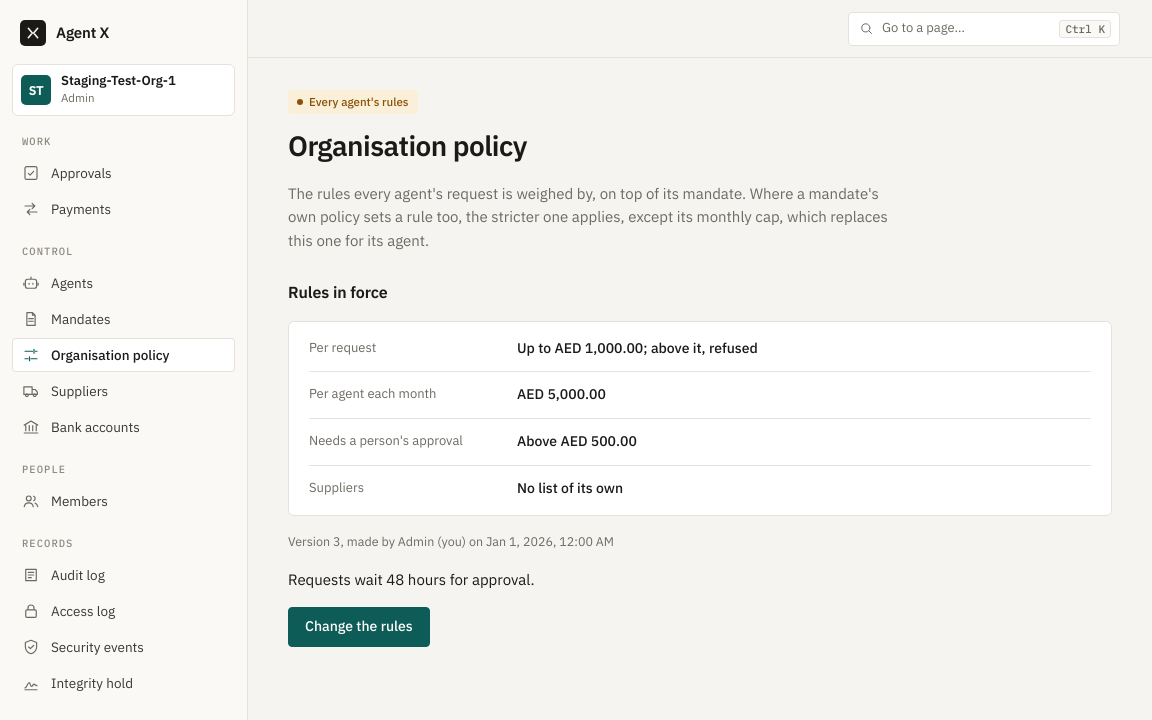
Test: the organisation’s policy (6D3b) › shows more suppliers to tick on asking
Step 1. Click the button "Change the rules" → click(359, 627), box [288,607,430,647]
(page scrolled)
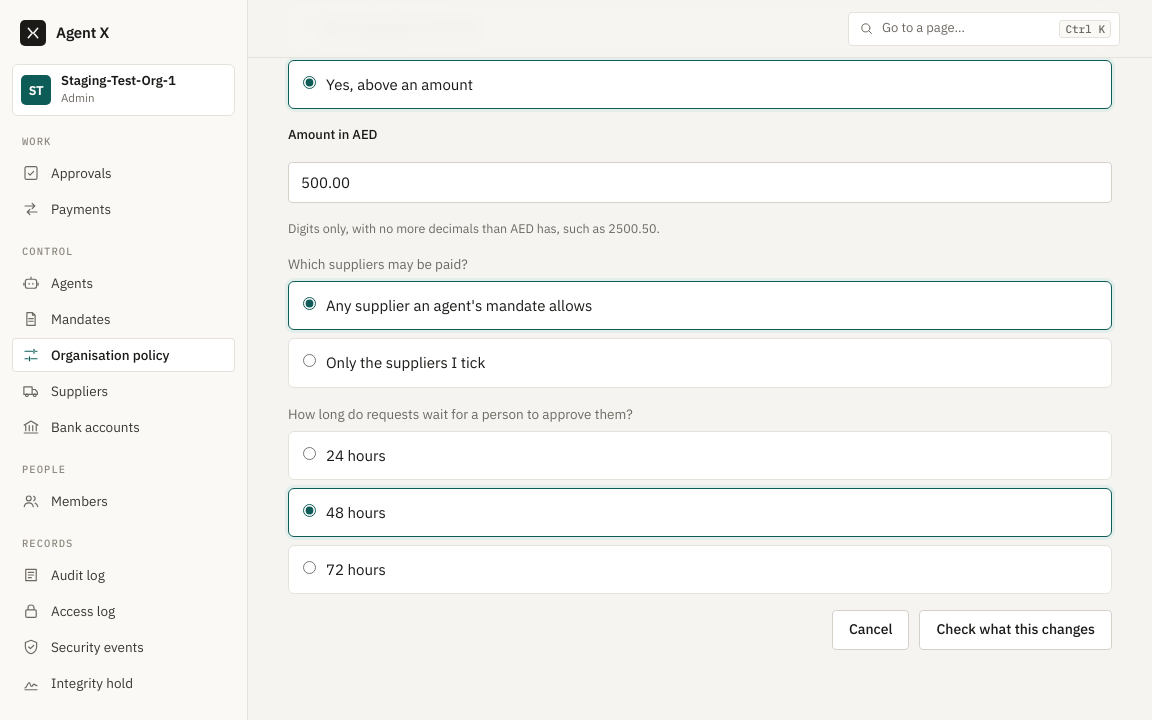
Step 2. Click the radio button labelled "Only the suppliers I tick" → click(310, 361), box [303,354,316,367]
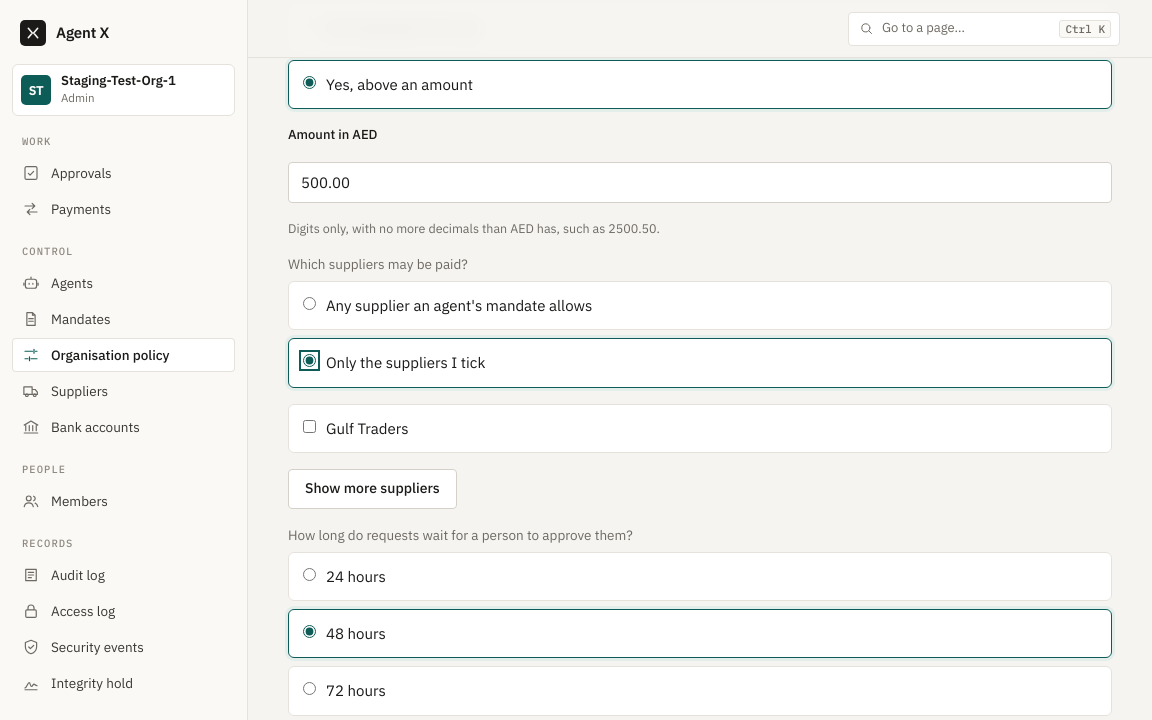
Expected: the checkbox labelled "Creek Paper" is not shown
Result: the checkbox labelled "Gulf Traders" is shown at [303,420,316,433]
Step 3. Click the button "Show more suppliers" → click(372, 489), box [288,469,457,509]
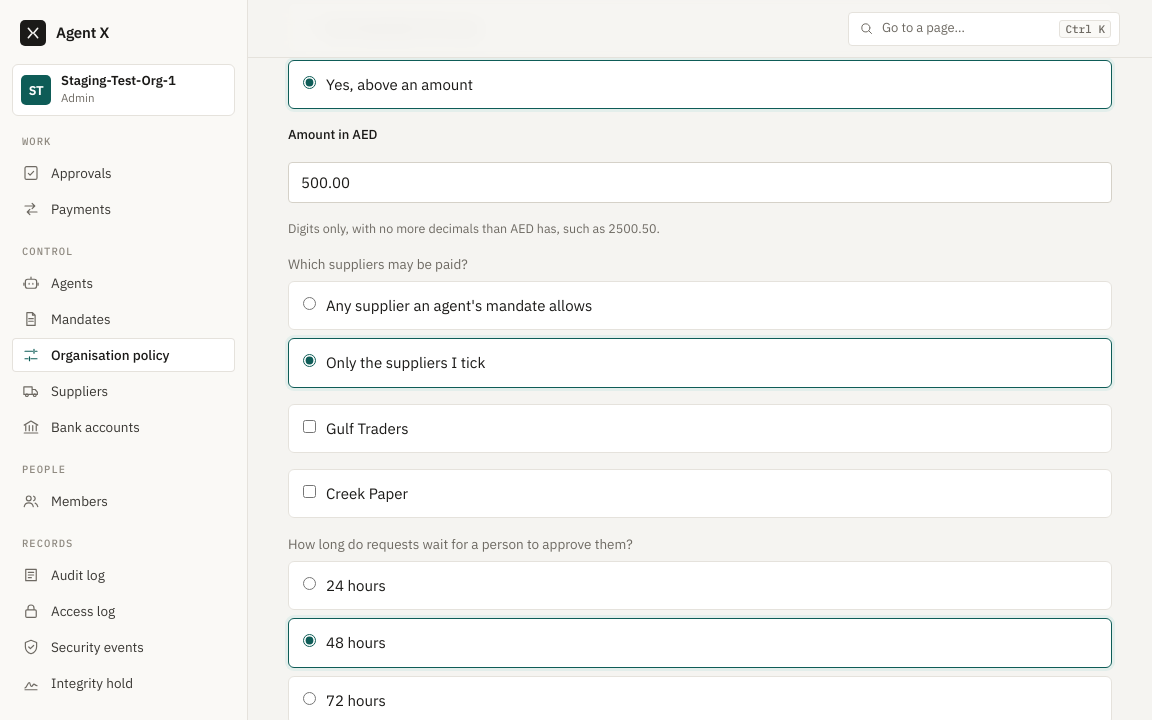
Result: the checkbox labelled "Creek Paper" is shown at [303,485,316,498]
